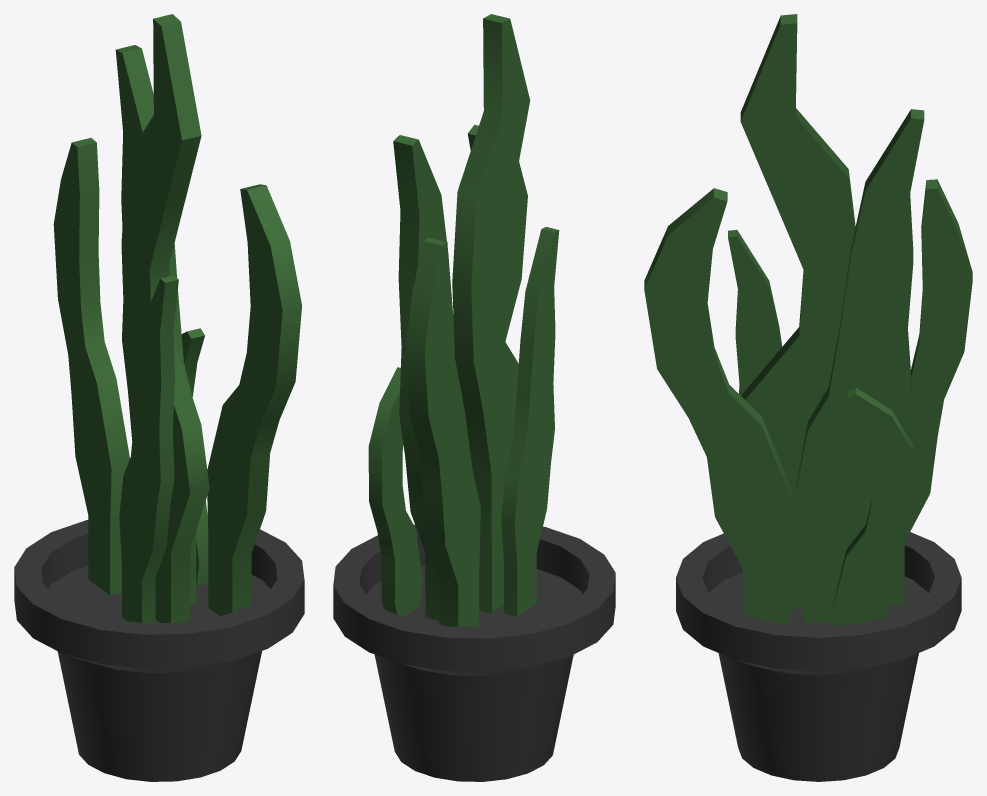
The model's file is Inside_Bush_1.fbx.
3 renders of one model, left to right at view 1: azimuth 30°, elevation 25°; view 2: azimuth 150°, elevation 25°; view 3: azimuth 270°, elevation 25°, orthographic. The views are drawn at different scales.
Visible parts, largest first — view 1: Inside_Bush, Würfel, Würfel_2, Würfel_3, Würfel_4, Würfel_1, Würfel_5; view 2: Inside_Bush, Würfel, Würfel_3, Würfel_4, Würfel_1, Würfel_5, Würfel_2; view 3: Inside_Bush, Würfel_1, Würfel_2, Würfel, Würfel_3, Würfel_5, Würfel_4.
Part boxes in pixels (<box>): Inside_Bush: <box>14,516,304,781</box>; Würfel: <box>121,14,209,622</box>; Würfel_2: <box>207,184,301,616</box>; Würfel_3: <box>53,138,129,595</box>; Würfel_4: <box>119,275,178,623</box>; Würfel_1: <box>115,45,196,604</box>; Würfel_5: <box>181,328,208,586</box>; Inside_Bush: <box>333,524,615,781</box>; Würfel: <box>452,14,530,613</box>; Würfel_3: <box>405,237,480,627</box>; Würfel_4: <box>501,227,559,616</box>; Würfel_1: <box>393,135,472,620</box>; Würfel_5: <box>368,367,422,616</box>; Würfel_2: <box>459,124,527,386</box>; Inside_Bush: <box>676,532,961,781</box>; Würfel_1: <box>796,109,924,622</box>; Würfel_2: <box>644,188,792,624</box>; Würfel: <box>740,14,855,609</box>; Würfel_3: <box>887,179,972,604</box>; Würfel_5: <box>832,387,913,625</box>; Würfel_4: <box>728,230,782,395</box>.
Size of the model in its own units: 102 by 286 by 117.
